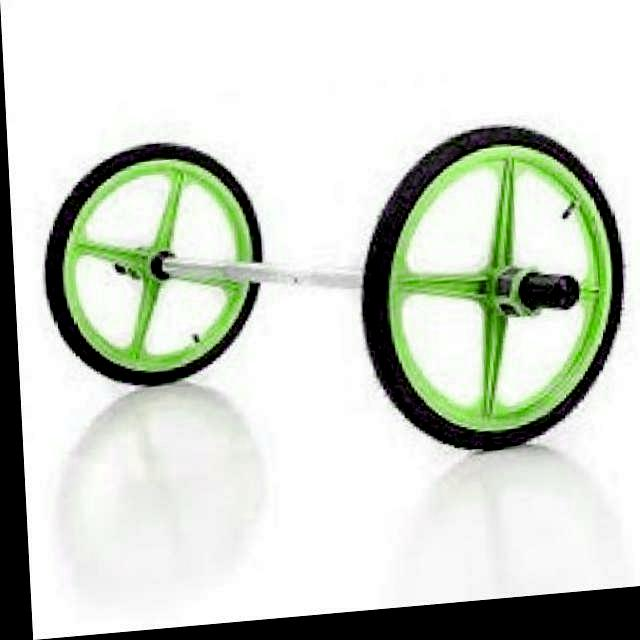barbell: (349, 116, 635, 474)
